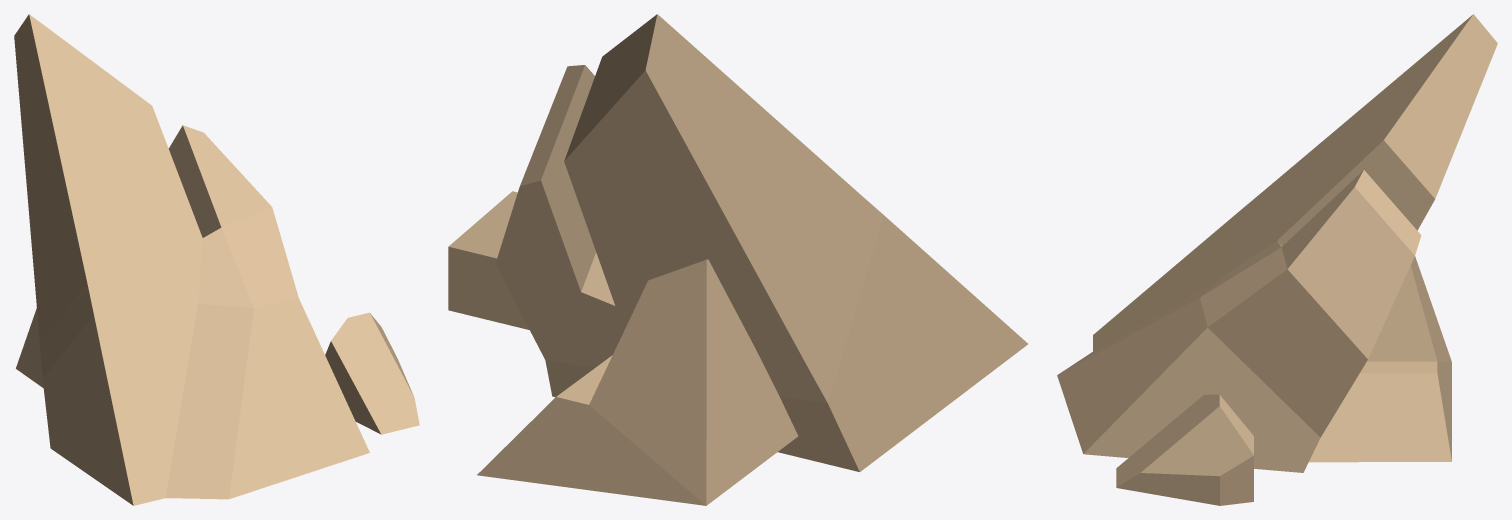
File: rock-sharp.glb
The picture shows the model from 3 angles, left to right: view 1: azimuth 30°, elevation 25°; view 2: azimuth 150°, elevation 25°; view 3: azimuth 270°, elevation 25°; orthographic projection. The views are drawn at different scales.
Parts seen in each view (by area): view 1: rock-sharp; view 2: rock-sharp; view 3: rock-sharp.
Part boxes in pixels (<box>): rock-sharp: <box>14,14,419,505</box>; rock-sharp: <box>448,14,1027,505</box>; rock-sharp: <box>1057,14,1497,505</box>.
Bounding box in the file's own units: 3.58 × 3.81 × 4.
